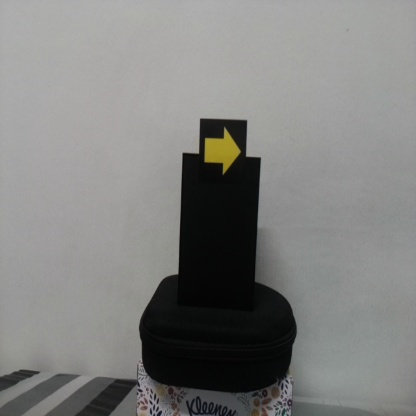id_3: (200, 122, 247, 185)
